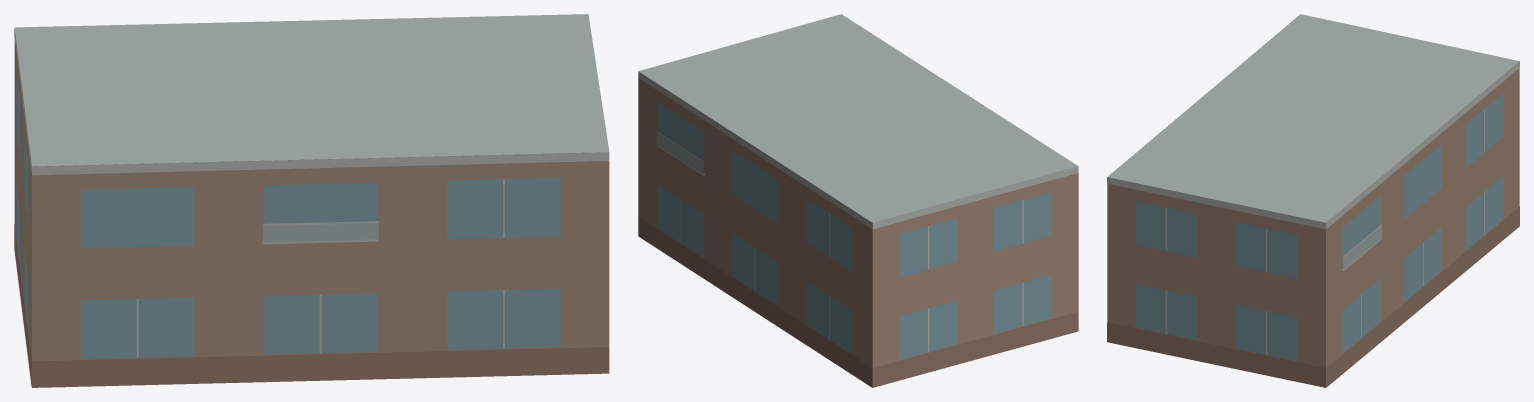
File: survey-upis-32885231.glb
The picture shows the model from 3 angles, left to right: view 1: azimuth 30°, elevation 25°; view 2: azimuth 150°, elevation 25°; view 3: azimuth 270°, elevation 25°; orthographic projection. The views are drawn at different scales.
Visible parts, largest first — view 1: survey-upis-32885231.tmp; view 2: survey-upis-32885231.tmp; view 3: survey-upis-32885231.tmp.
Part boxes in pixels (x1,y1,x2,y2): survey-upis-32885231.tmp: (14, 14, 609, 387); survey-upis-32885231.tmp: (638, 14, 1078, 387); survey-upis-32885231.tmp: (1107, 14, 1519, 387).
Bounding box in the file's own units: 16.55 × 6.1 × 13.82.
